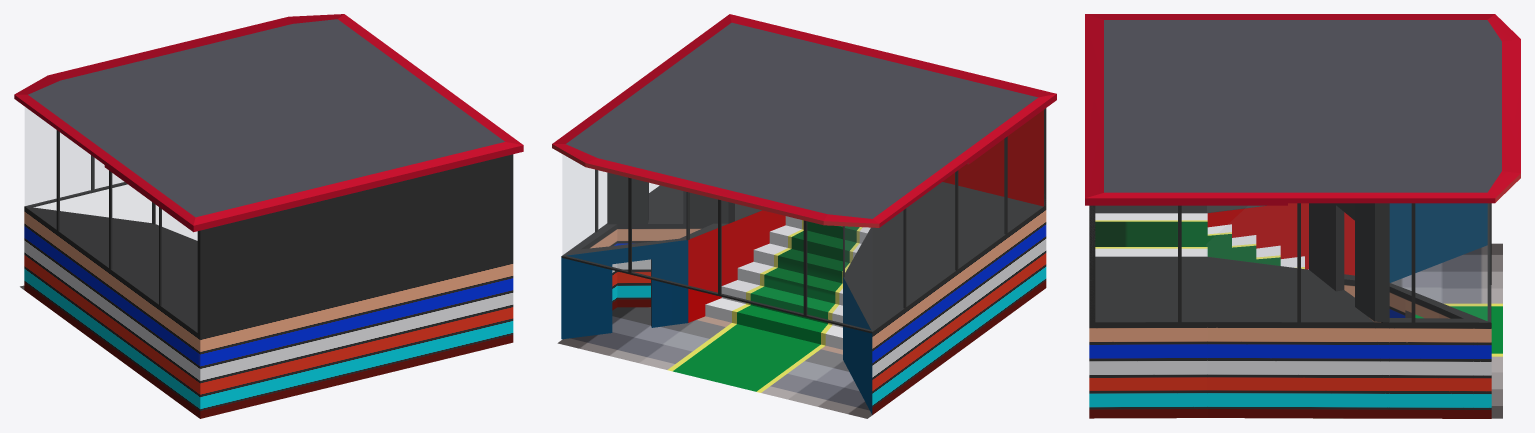
File: Building.glb
3 views of the same model, side by side, from view 1: azimuth 30°, elevation 25°; view 2: azimuth 150°, elevation 25°; view 3: azimuth 270°, elevation 25° (orthographic). The views are drawn at different scales.
Parts seen in each view (by area): view 1: Roof, Base, Backwall, Windows; view 2: Base, Roof, Windows, Backwall, bar.006, bar.007; view 3: Base, Roof, Windows, Backwall, bar.003, bar.004, bar.005, bar.006.
Boxes of the visible parts, bbox=[...] form: Roof: bbox=[14, 14, 523, 232]; Base: bbox=[20, 206, 513, 418]; Backwall: bbox=[197, 154, 513, 334]; Windows: bbox=[25, 107, 196, 240]; Base: bbox=[557, 172, 1046, 418]; Roof: bbox=[552, 14, 1056, 227]; Windows: bbox=[562, 155, 872, 330]; Backwall: bbox=[942, 108, 1046, 206]; bar.006: bbox=[561, 255, 873, 333]; bar.007: bbox=[803, 220, 807, 315]; Base: bbox=[1089, 203, 1502, 418]; Roof: bbox=[1085, 14, 1520, 205]; Windows: bbox=[1206, 204, 1490, 321]; Backwall: bbox=[1089, 205, 1095, 322]; bar.003: bbox=[1411, 203, 1415, 322]; bar.004: bbox=[1297, 203, 1300, 322]; bar.005: bbox=[1178, 205, 1181, 322]; bar.006: bbox=[1487, 203, 1491, 322].
Size of what is drawn, in the model's own units: 14.77 by 8.4 by 14.75.
2 materials, 1 textured.
